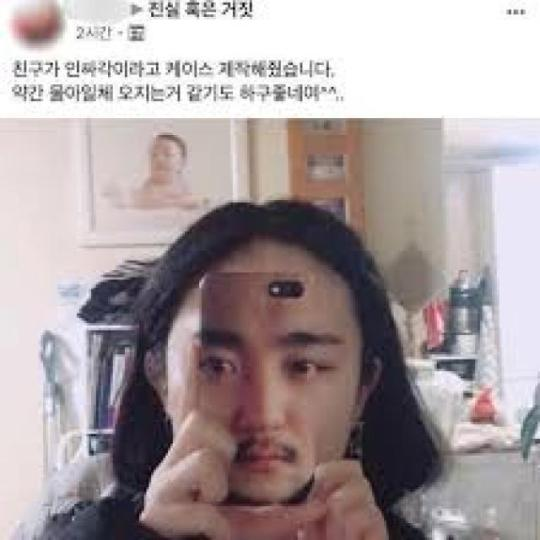phone: (194, 272, 326, 511)
